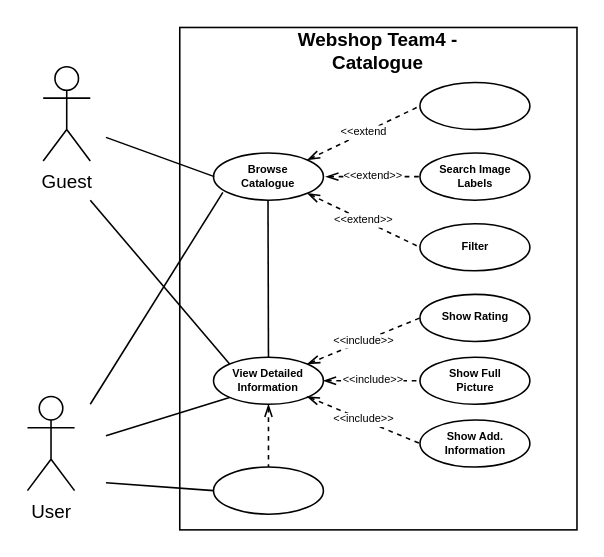
The diagram is 604 pixels wide and 557 high, and some of its shapes have lost their labels. Here are the shapes that lost their labels. From the top down, the centre of each, then its label:
(474,105): Search Keywords
(267,490): Add to Cart
